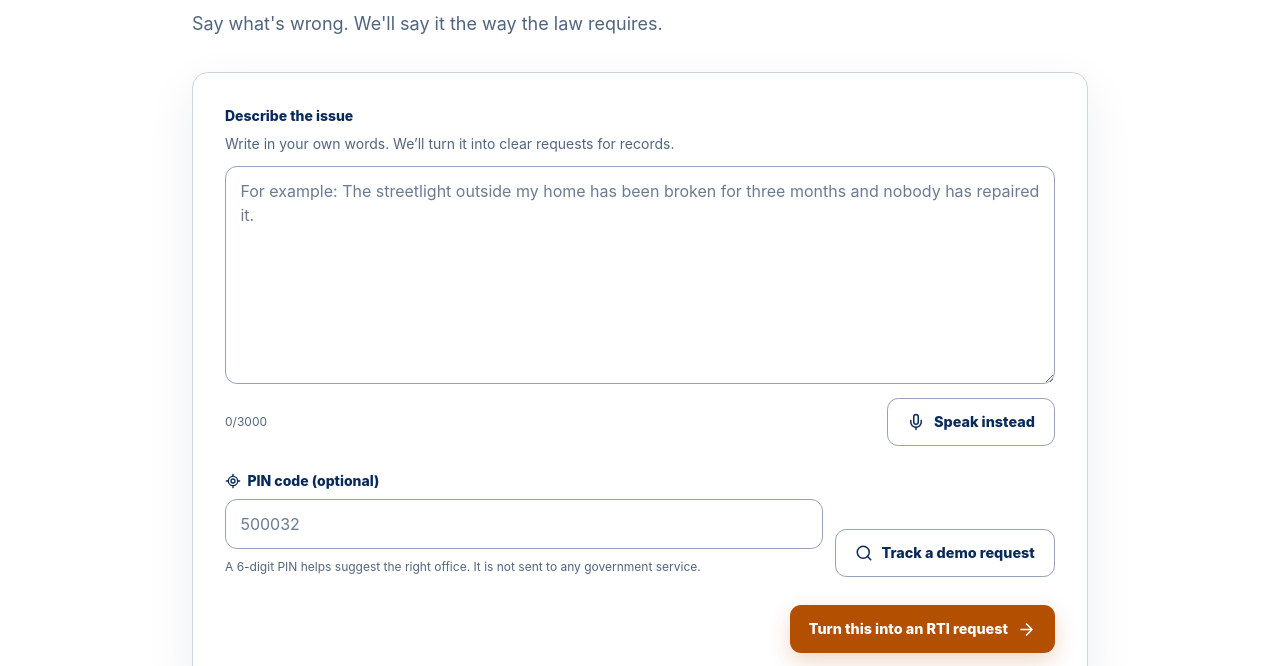
Test: landing step › validates grievance and PIN before opening login
(page scrolled)
Step 1. Click the button "Turn this into an RTI request" → click(922, 629), box x1=790 y1=605 x2=1055 y2=653
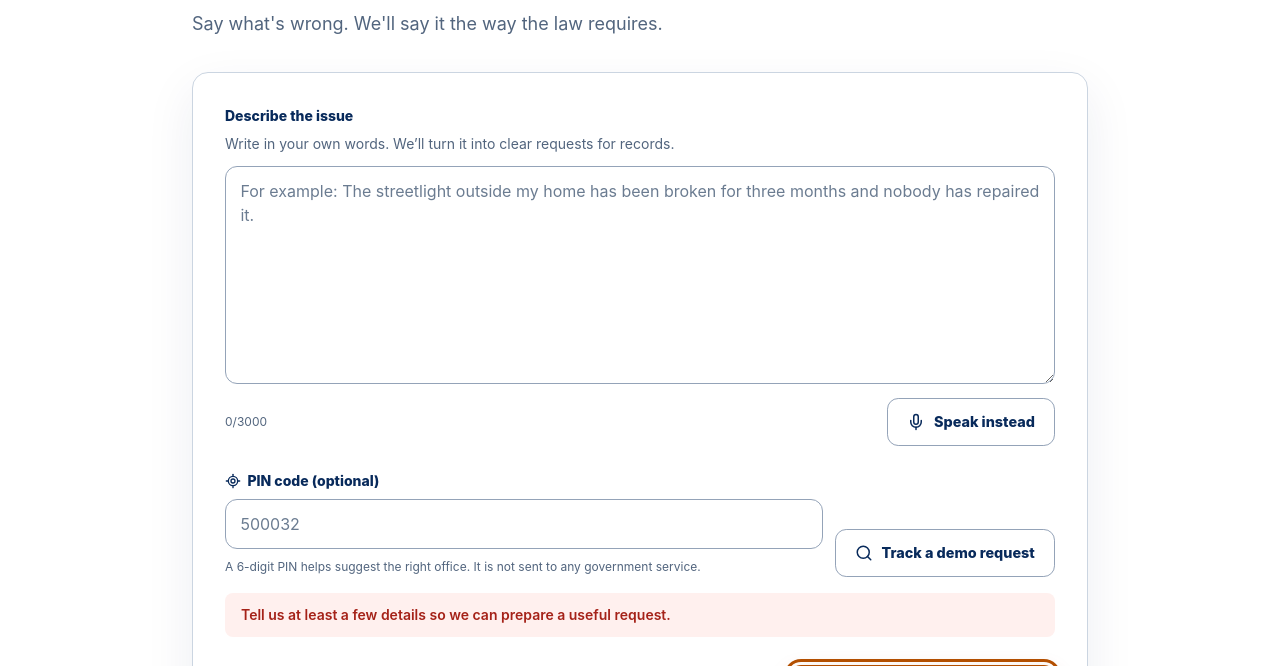
Expected: the text "Tell us at least a few details so we can prepare a useful request." is shown, x1=225 y1=593 x2=1055 y2=637
